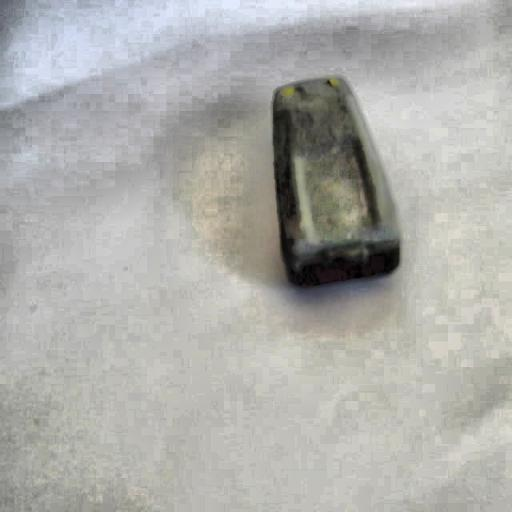normal_car: (254, 64, 412, 303)
